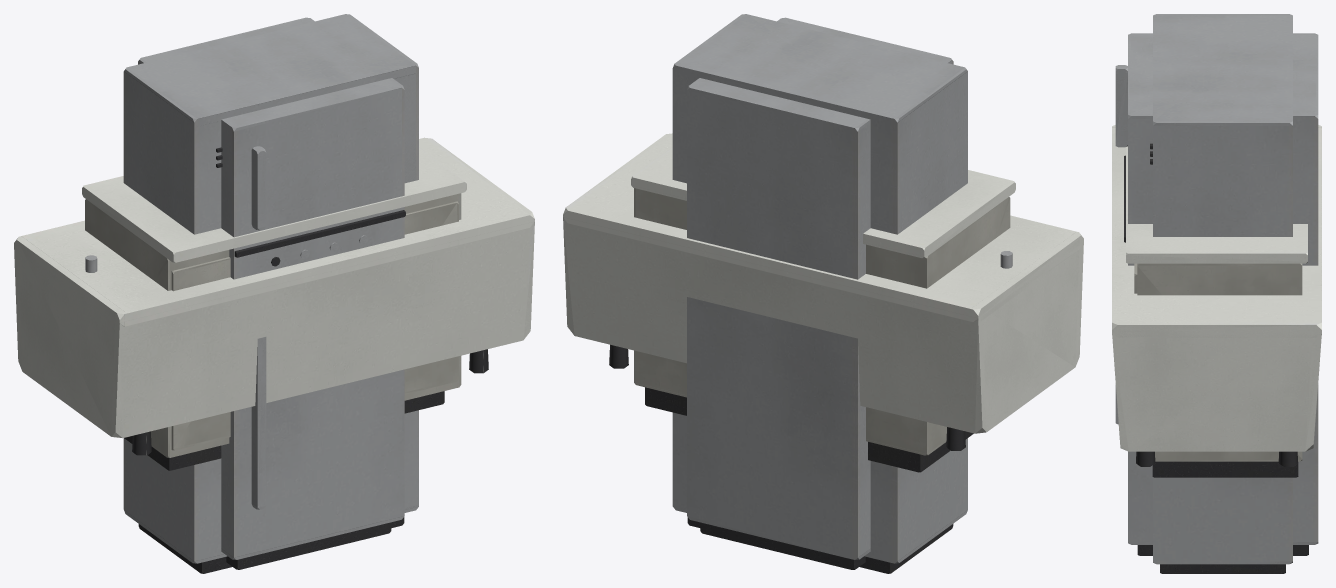
Rendered from propsAppliance.glb.
3 views of the same model, side by side, from view 1: azimuth 30°, elevation 25°; view 2: azimuth 150°, elevation 25°; view 3: azimuth 270°, elevation 25° (orthographic).
Visible parts, largest first — view 1: bathtub_lod0_v0, fridge_lod0_v0, lockerBank_lod0_v0, bathtub_lod1_v0, kitchenCounter_lod0_v0, chunk_1, chunk_2, chunk_3 (×2), fridge_lod1_v0, chunk_5; view 2: fridge_lod1_v0, bathtub_lod0_v0, lockerBank_lod0_v0, bathtub_lod1_v0, kitchenCounter_lod0_v0, chunk_1 (×2), fridge_lod0_v0, chunk_2, chunk_0, chunk_3; view 3: lockerBank_lod0_v0, bathtub_lod0_v0, bathtub_lod1_v0, fridge_lod0_v0, fridge_lod1_v0, chunk_1 (×2), kitchenCounter_lod0_v0, chunk_2, chunk_3.
Boxes of the visible parts, bbox=[...] form: bathtub_lod0_v0: bbox=[14, 217, 534, 455]; fridge_lod0_v0: bbox=[138, 17, 405, 569]; lockerBank_lod0_v0: bbox=[123, 14, 418, 573]; bathtub_lod1_v0: bbox=[14, 137, 534, 435]; kitchenCounter_lod0_v0: bbox=[82, 182, 466, 470]; chunk_1: bbox=[15, 248, 326, 436]; chunk_2: bbox=[82, 147, 466, 261]; chunk_3 (×2): bbox=[15, 202, 534, 394]; fridge_lod1_v0: bbox=[139, 18, 387, 569]; chunk_5: bbox=[171, 258, 230, 450]; fridge_lod1_v0: bbox=[687, 19, 953, 569]; bathtub_lod0_v0: bbox=[563, 217, 1083, 450]; lockerBank_lod0_v0: bbox=[672, 14, 967, 573]; bathtub_lod1_v0: bbox=[563, 133, 1083, 431]; kitchenCounter_lod0_v0: bbox=[631, 177, 1015, 471]; chunk_1 (×2): bbox=[567, 198, 1082, 454]; fridge_lod0_v0: bbox=[689, 17, 953, 558]; chunk_2: bbox=[631, 147, 1015, 257]; chunk_0: bbox=[645, 387, 920, 472]; chunk_3: bbox=[563, 209, 1082, 322]; lockerBank_lod0_v0: bbox=[1150, 14, 1292, 573]; bathtub_lod0_v0: bbox=[1112, 325, 1321, 451]; bathtub_lod1_v0: bbox=[1112, 125, 1321, 451]; fridge_lod0_v0: bbox=[1115, 33, 1318, 555]; fridge_lod1_v0: bbox=[1124, 33, 1318, 555]; chunk_1 (×2): bbox=[1113, 263, 1321, 466]; kitchenCounter_lod0_v0: bbox=[1126, 253, 1307, 477]; chunk_2: bbox=[1126, 146, 1307, 263]; chunk_3: bbox=[1112, 324, 1321, 466].
Size of what is drawn, in the model's own units: 1.7 by 1.8 by 0.7501.
Materials: 1 (1 with a texture image).
